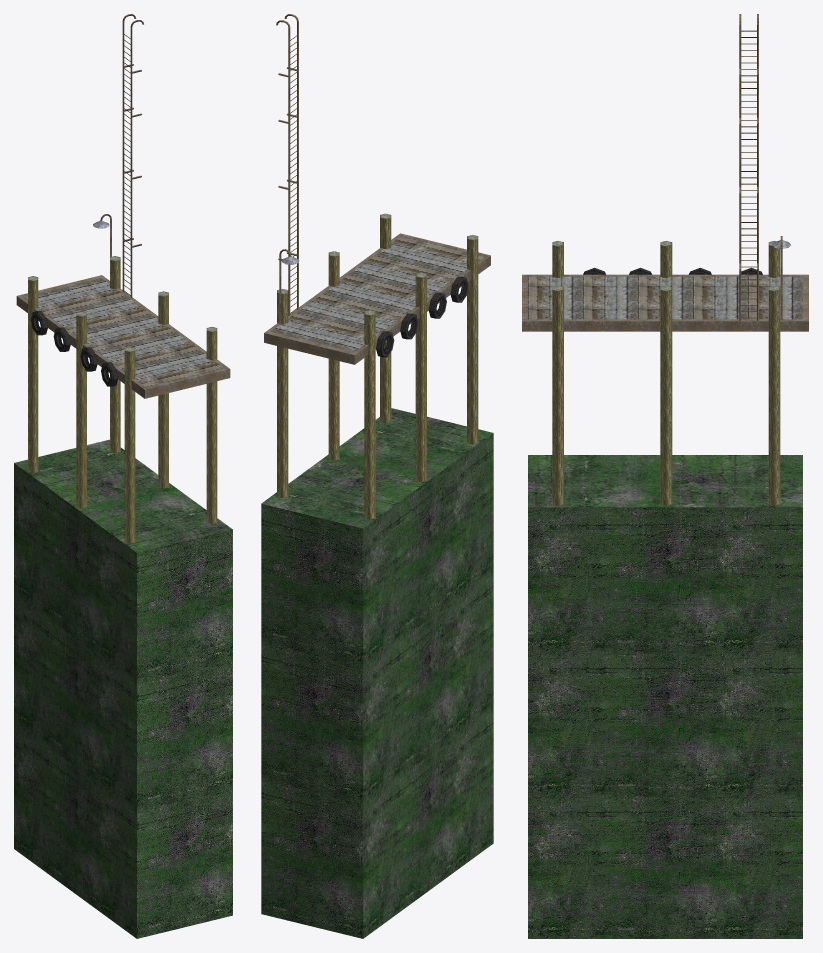
The model's file is ws_jetty_sfx.obj.
The picture shows the model from 3 angles, left to right: view 1: azimuth 30°, elevation 25°; view 2: azimuth 150°, elevation 25°; view 3: azimuth 270°, elevation 25°; orthographic projection. The views are drawn at different scales.
Parts seen in each view (by area): view 1: ws_jetty_SFX; view 2: ws_jetty_SFX; view 3: ws_jetty_SFX.
Part boxes in pixels (bbox=[...]): ws_jetty_SFX: bbox=[14, 14, 232, 938]; ws_jetty_SFX: bbox=[261, 14, 493, 938]; ws_jetty_SFX: bbox=[522, 14, 808, 938].
Bounding box in the file's own units: 4.81 × 37.21 × 10.47.
9 materials, 9 textured.
